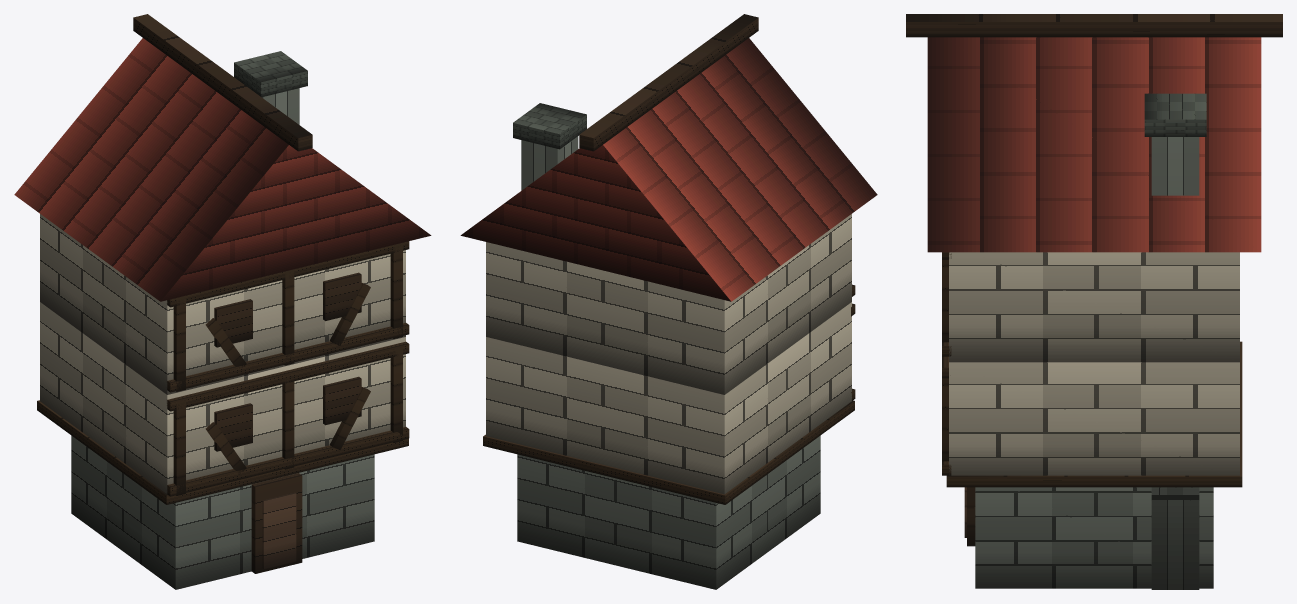
Rendered from house_tall.glb.
3 renders of one model, left to right at view 1: azimuth 30°, elevation 25°; view 2: azimuth 150°, elevation 25°; view 3: azimuth 270°, elevation 25°, orthographic. The views are drawn at different scales.
Parts seen in each view (by area): view 1: house_tall; view 2: house_tall; view 3: house_tall.
Boxes of the visible parts, box(x1,y1,x2,y2) form: house_tall: box(14, 14, 431, 589); house_tall: box(460, 14, 877, 589); house_tall: box(906, 14, 1282, 589).
Bounding box in the file's own units: 1.5 × 2.38 × 1.58.
Materials: 1 (1 with a texture image).
